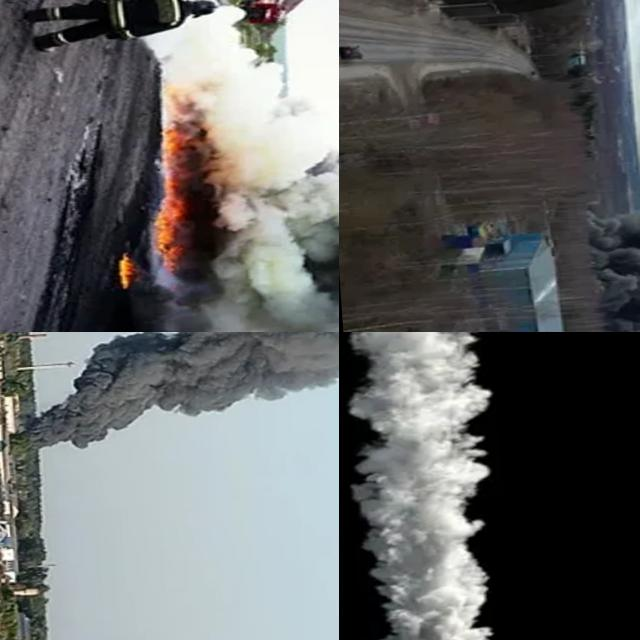smoke: (339, 332, 536, 640), (0, 332, 339, 452), (189, 114, 339, 332)
